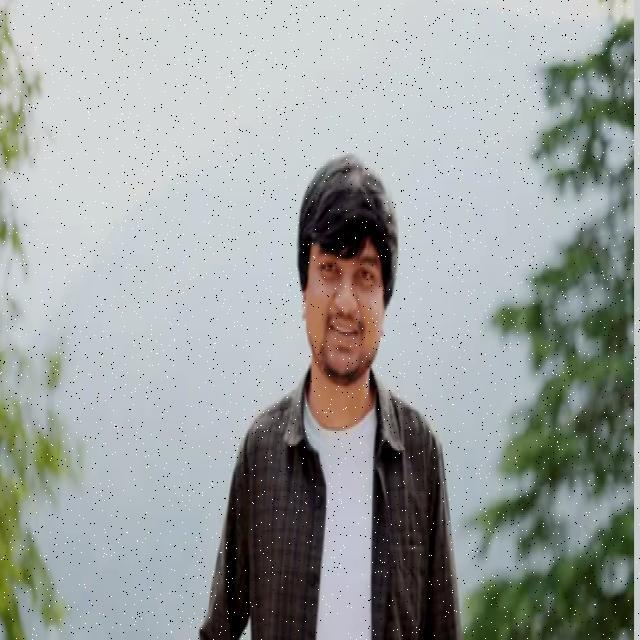face_no_mask: (303, 223, 387, 373)
